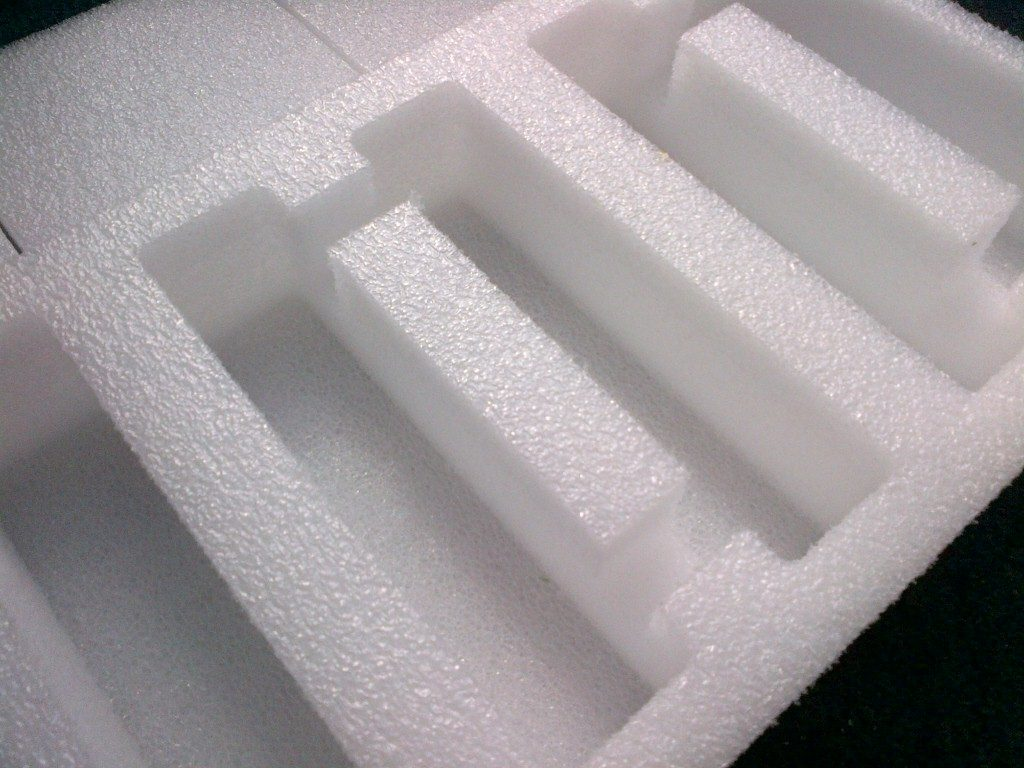Boxes: (0, 2, 1024, 765)
